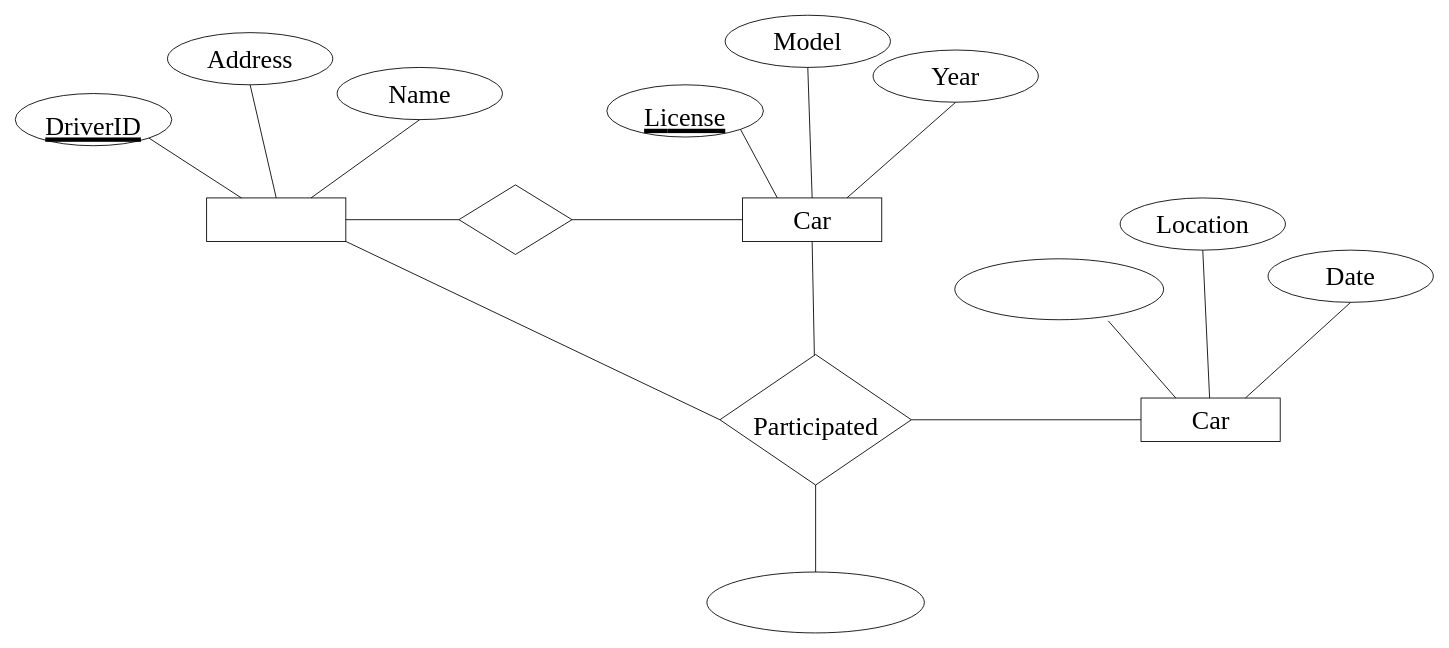
The diagram is 1449 pixels wide and 648 high, and some of its shapes have lost their labels. The box of each missing label's shape, as (x1, y1, x2, y2) in pixels:
Damage Amount: (706, 571, 924, 633)
Owns: (458, 184, 572, 254)
Person: (206, 197, 346, 241)
ReportNumber: (954, 258, 1164, 320)
